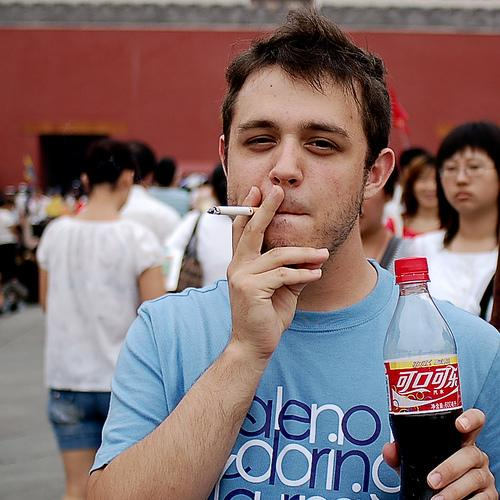person: (85, 10, 500, 500)
